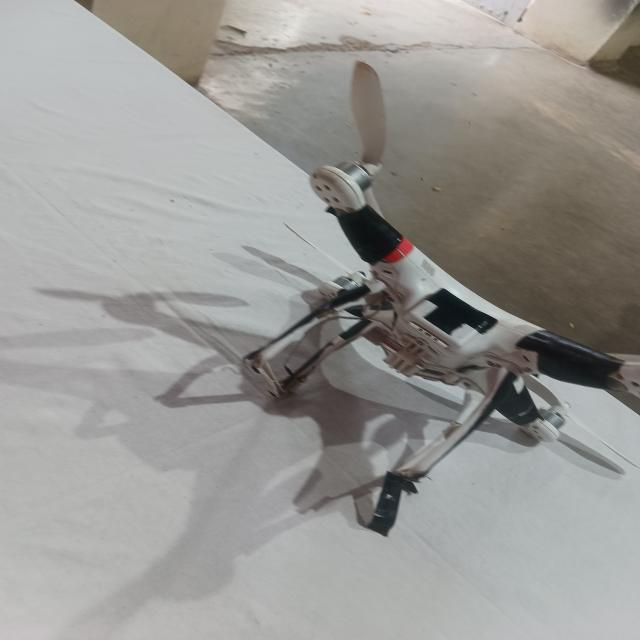drone: (227, 67, 640, 537)
